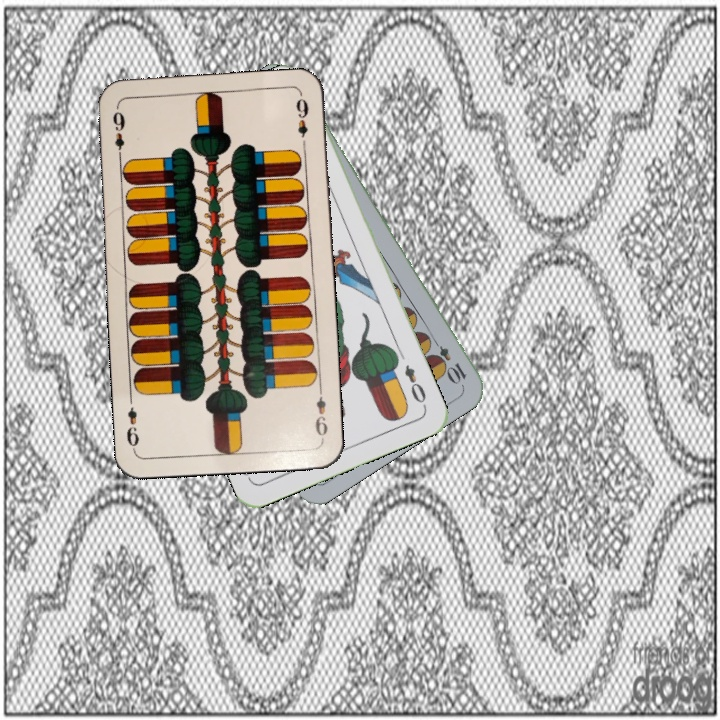E10: (426, 333, 469, 386)
E9: (311, 383, 330, 442), (109, 107, 128, 163)
EO: (400, 361, 429, 410)
